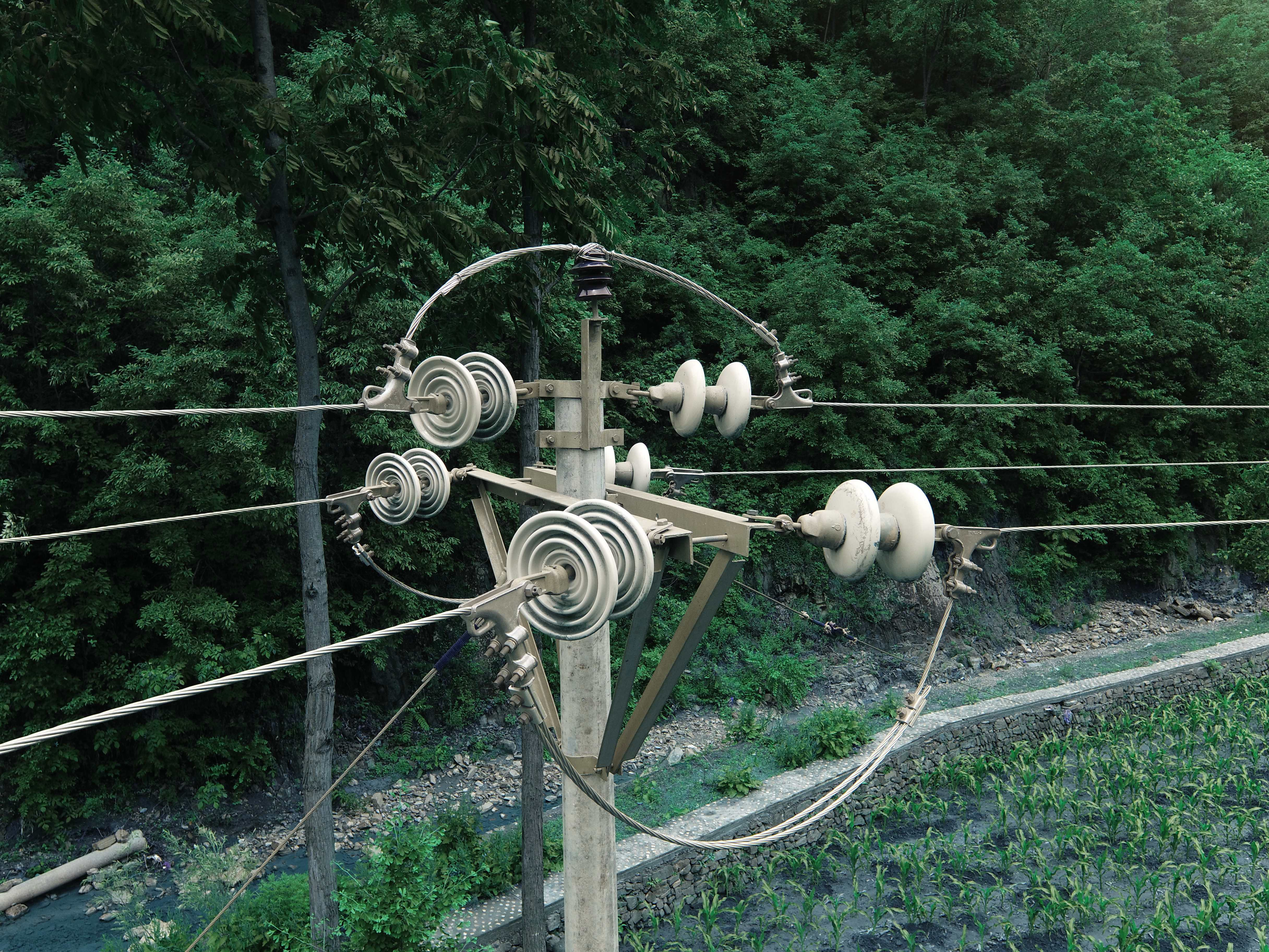severe_soiling_no_discharge_whole: (504, 494, 659, 643), (795, 478, 940, 585), (406, 347, 525, 453), (648, 358, 753, 441), (363, 447, 453, 528)
